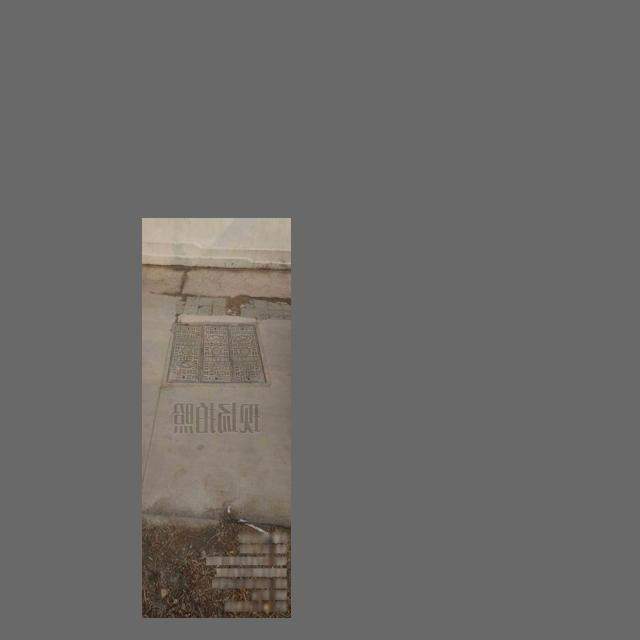good: (163, 321, 272, 387)
